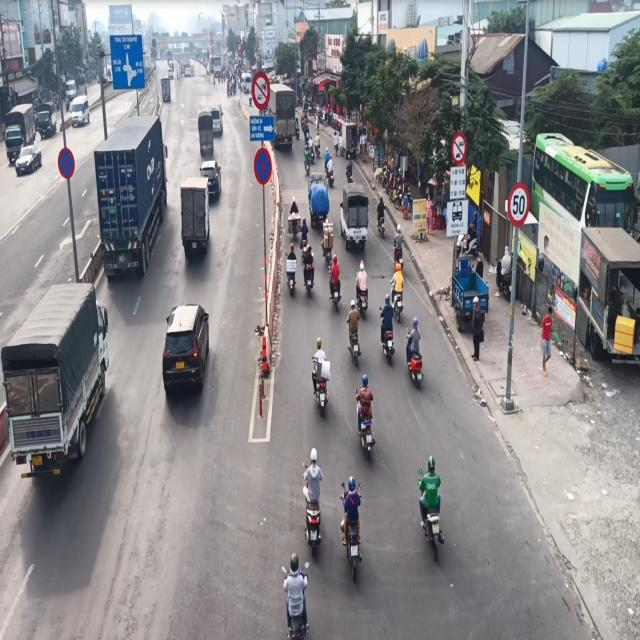car: (160, 296, 210, 410)
motor: (338, 471, 373, 578), (298, 439, 328, 560), (417, 449, 449, 559), (280, 545, 314, 640), (351, 368, 382, 456), (306, 331, 334, 423), (405, 310, 427, 400), (342, 297, 364, 367)
truck: (2, 279, 114, 500), (91, 112, 168, 286), (180, 177, 212, 271), (340, 183, 370, 258), (268, 83, 299, 155), (196, 107, 217, 161)
